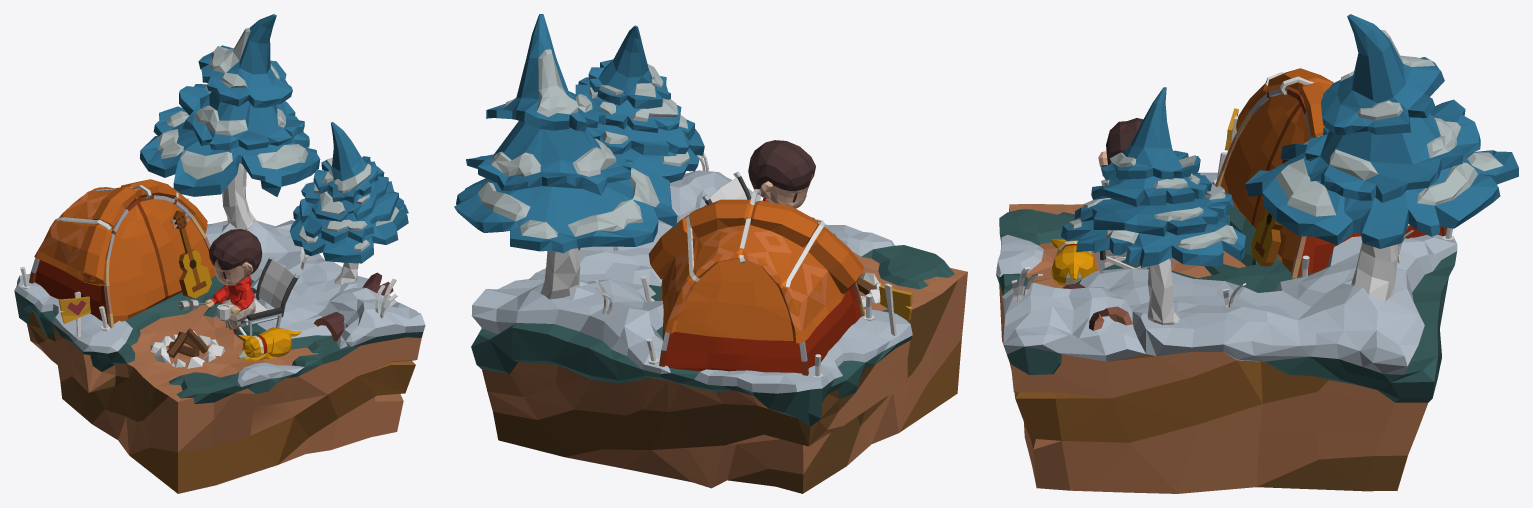
Rendered from 0003_campfire.fbx.
The picture shows the model from 3 angles, left to right: view 1: azimuth 30°, elevation 25°; view 2: azimuth 150°, elevation 25°; view 3: azimuth 270°, elevation 25°; orthographic projection. The views are drawn at different scales.
Visible parts, largest first — view 1: Land, Tent_Wall, pinetree_Big_Leaves03, pinetree_Big_Leaves02, pinetree_Big_Leaves01, pinetree_Small_Leave01, pinetree_Small_Leave04, pinetree_Small_Leave03, CampingMan_Head, pinetree_Small_Leave02, Guitar, Dog (+8 smaller); view 2: Land, Tent_Wall, pinetree_Big_Leaves03, pinetree_Big_Leaves02, pinetree_Big_Leaves01, pinetree_Small_Leave01, CampingMan_Head, pinetree_Small_Leave03, pinetree_Small_Leave02, pinetree_Small_Leave04, pinetree_Big_Trunk, Sign_Heart (+1 smaller); view 3: Land, pinetree_Big_Leaves03, pinetree_Big_Leaves02, Tent_Wall, pinetree_Big_Leaves01, pinetree_Small_Leave04, pinetree_Small_Leave03, pinetree_Small_Leave01, pinetree_Small_Leave02, pinetree_Big_Trunk, pinetree_Small_Turnk, Dog (+4 smaller).
Boxes of the visible parts, x1=… form: Land: x1=14, y1=220, x2=425, y2=493; Tent_Wall: x1=34, y1=179, x2=215, y2=324; pinetree_Big_Leaves03: x1=140, y1=106, x2=320, y2=196; pinetree_Big_Leaves02: x1=179, y1=84, x2=304, y2=150; pinetree_Big_Leaves01: x1=198, y1=14, x2=292, y2=107; pinetree_Small_Leave01: x1=314, y1=122, x2=378, y2=203; pinetree_Small_Leave04: x1=289, y1=197, x2=408, y2=263; pinetree_Small_Leave03: x1=299, y1=181, x2=398, y2=243; CampingMan_Head: x1=208, y1=229, x2=262, y2=285; pinetree_Small_Leave02: x1=305, y1=166, x2=388, y2=221; Guitar: x1=171, y1=210, x2=211, y2=298; Dog: x1=238, y1=327, x2=301, y2=360; Land: x1=471, y1=170, x2=967, y2=493; Tent_Wall: x1=649, y1=199, x2=863, y2=373; pinetree_Big_Leaves03: x1=454, y1=159, x2=677, y2=253; pinetree_Big_Leaves02: x1=466, y1=121, x2=631, y2=195; pinetree_Big_Leaves01: x1=486, y1=14, x2=605, y2=131; pinetree_Small_Leave01: x1=588, y1=25, x2=669, y2=108; CampingMan_Head: x1=748, y1=140, x2=815, y2=208; pinetree_Small_Leave03: x1=586, y1=115, x2=694, y2=155; pinetree_Small_Leave02: x1=575, y1=77, x2=681, y2=132; pinetree_Small_Leave04: x1=615, y1=129, x2=704, y2=182; pinetree_Big_Trunk: x1=540, y1=248, x2=580, y2=299; Sign_Heart: x1=879, y1=285, x2=912, y2=320; Land: x1=996, y1=172, x2=1457, y2=493; pinetree_Big_Leaves03: x1=1245, y1=140, x2=1518, y2=248; pinetree_Big_Leaves02: x1=1305, y1=99, x2=1480, y2=202; Tent_Wall: x1=1220, y1=68, x2=1442, y2=276; pinetree_Big_Leaves01: x1=1320, y1=14, x2=1444, y2=134; pinetree_Small_Leave04: x1=1061, y1=215, x2=1246, y2=267; pinetree_Small_Leave03: x1=1074, y1=188, x2=1233, y2=236; pinetree_Small_Leave01: x1=1101, y1=87, x2=1200, y2=180; pinetree_Small_Leave02: x1=1091, y1=173, x2=1211, y2=206; pinetree_Big_Trunk: x1=1351, y1=242, x2=1398, y2=302; pinetree_Small_Turnk: x1=1147, y1=258, x2=1179, y2=324; Dog: x1=1051, y1=239, x2=1096, y2=285.
Bounding box in the file's own units: 7.63 × 7.93 × 7.97.
